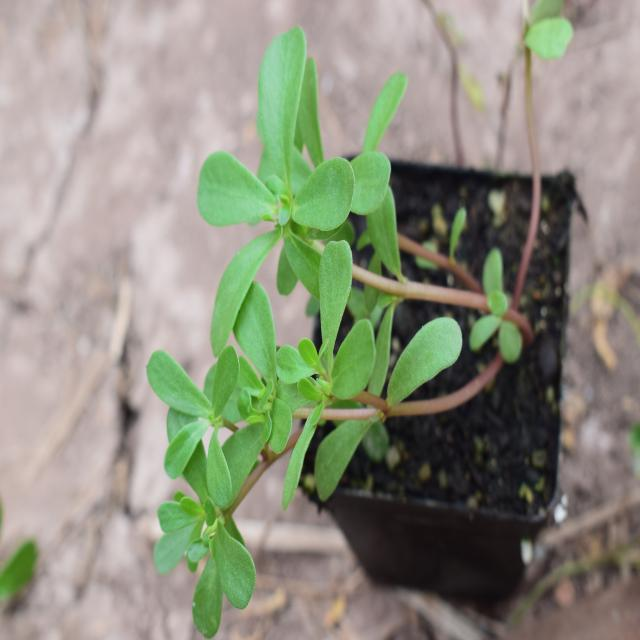purslane: (127, 4, 510, 608)
